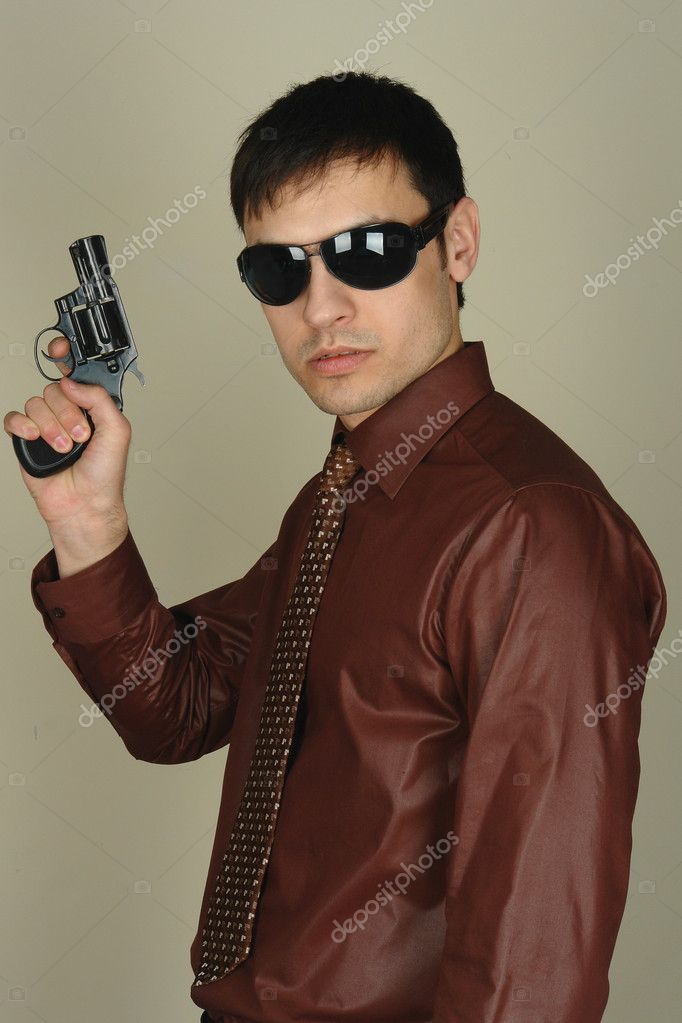Revolver: (5, 222, 174, 490), (27, 222, 174, 490)
